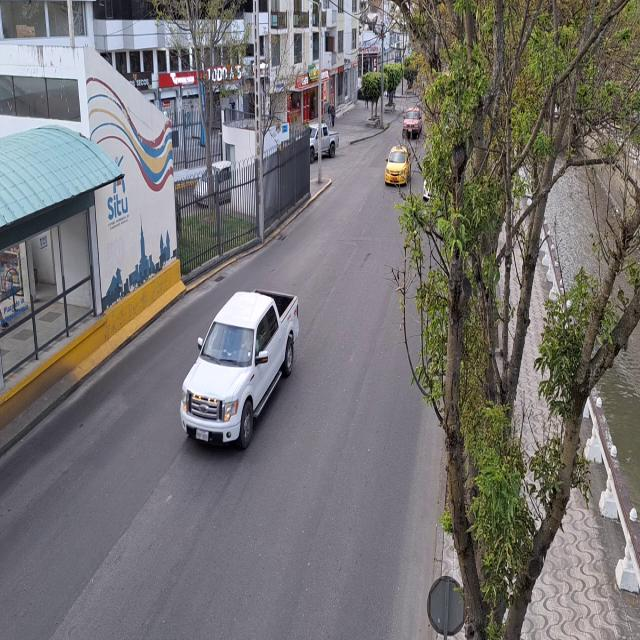CMT: (187, 298, 300, 457)
SED: (382, 137, 413, 189)
